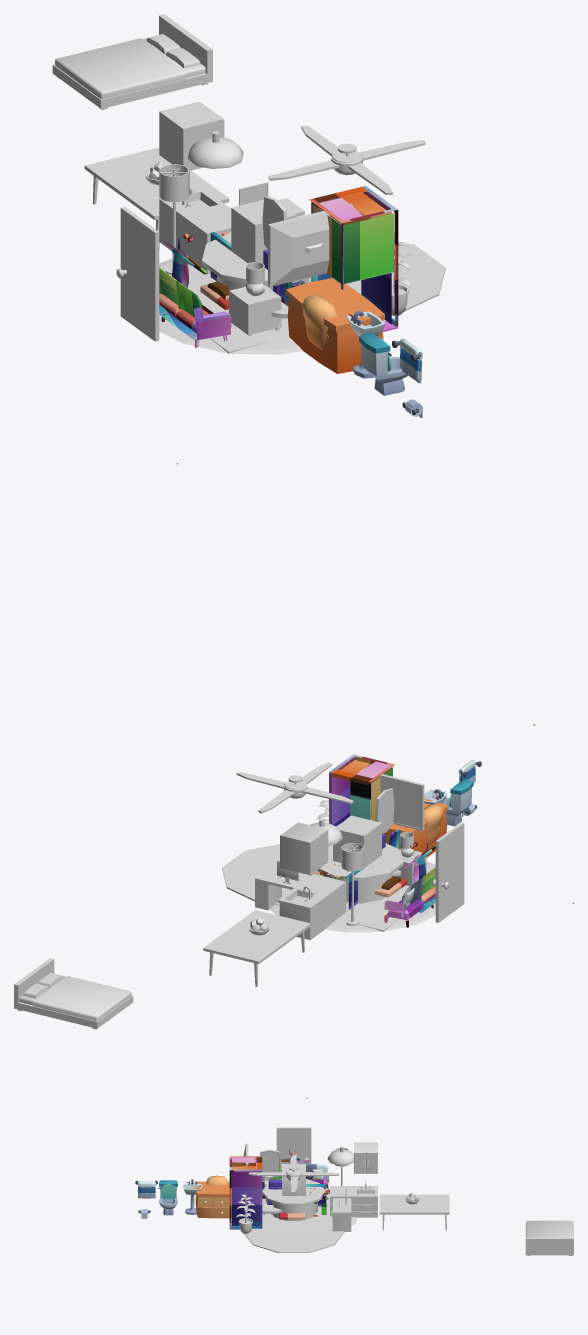
File: FireAxe.fbx
The picture shows the model from 3 angles, top to bottom: view 1: azimuth 30°, elevation 25°; view 2: azimuth 150°, elevation 25°; view 3: azimuth 270°, elevation 25°; orthographic projection. The views are drawn at different scales.
Parts seen in each view (by area): view 1: DoubleBed, Shower, Dresser, Door, TV, Table, Floor, Sofa, Cabinet, Fan, CircleRug, Nightstand (+8 smaller); view 2: DoubleBed, Table, Shower, Door, Cabinet, Floor, Island, CircleRug, Sink, TV, Fan, Refridgerator (+8 smaller); view 3: Shower, CircleRug, DoubleBed, Table, Island, Floor, Dresser, Door, Sink, Cabinet, Fan, Desk (+10 smaller).
Part boxes in pixels (<box>): DoubleBed: <box>52,14,212,109</box>; Shower: <box>309,186,398,331</box>; Dresser: <box>286,278,384,373</box>; Door: <box>116,206,159,341</box>; TV: <box>268,204,353,286</box>; Table: <box>84,147,229,248</box>; Floor: <box>159,259,385,354</box>; Sofa: <box>159,267,231,347</box>; Cabinet: <box>159,101,224,170</box>; Fan: <box>268,125,425,194</box>; CircleRug: <box>359,241,445,311</box>; Nightstand: <box>229,285,281,335</box>; DoubleBed: <box>14,958,133,1029</box>; Table: <box>203,910,310,986</box>; Shower: <box>329,754,395,826</box>; Door: <box>432,822,464,922</box>; Cabinet: <box>280,822,328,875</box>; Floor: <box>270,861,435,932</box>; Island: <box>317,843,403,903</box>; CircleRug: <box>222,844,279,901</box>; Sink: <box>278,886,328,940</box>; TV: <box>360,769,424,830</box>; Fan: <box>236,762,353,813</box>; Refridgerator: <box>333,815,381,868</box>; Shower: <box>229,1156,262,1229</box>; CircleRug: <box>244,1227,344,1252</box>; DoubleBed: <box>525,1220,573,1255</box>; Table: <box>379,1194,449,1230</box>; Island: <box>262,1179,325,1220</box>; Floor: <box>231,1188,357,1233</box>; Dresser: <box>195,1181,231,1218</box>; Door: <box>276,1127,311,1163</box>; Sink: <box>354,1181,377,1217</box>; Cabinet: <box>354,1142,377,1173</box>; Fan: <box>248,1154,339,1193</box>; Desk: <box>332,1198,351,1231</box>.
Bounding box in the file's own units: 756 × 806 × 2333.
